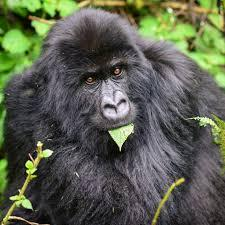goriile_montagne: (6, 8, 224, 225)
